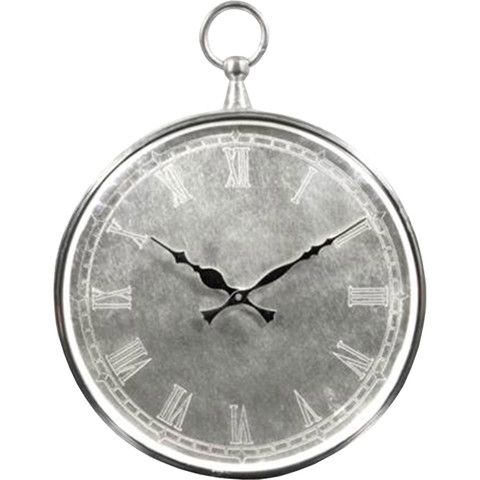clock: (64, 120, 419, 474)
